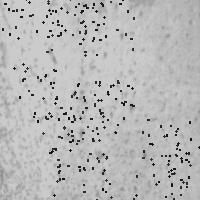pitted_surface: (1, 1, 199, 199), (73, 80, 132, 140), (48, 82, 107, 139), (13, 63, 71, 120), (142, 119, 198, 175), (42, 118, 102, 170), (46, 0, 103, 54), (74, 0, 133, 48), (133, 152, 190, 200), (53, 156, 110, 200), (1, 0, 61, 37)
